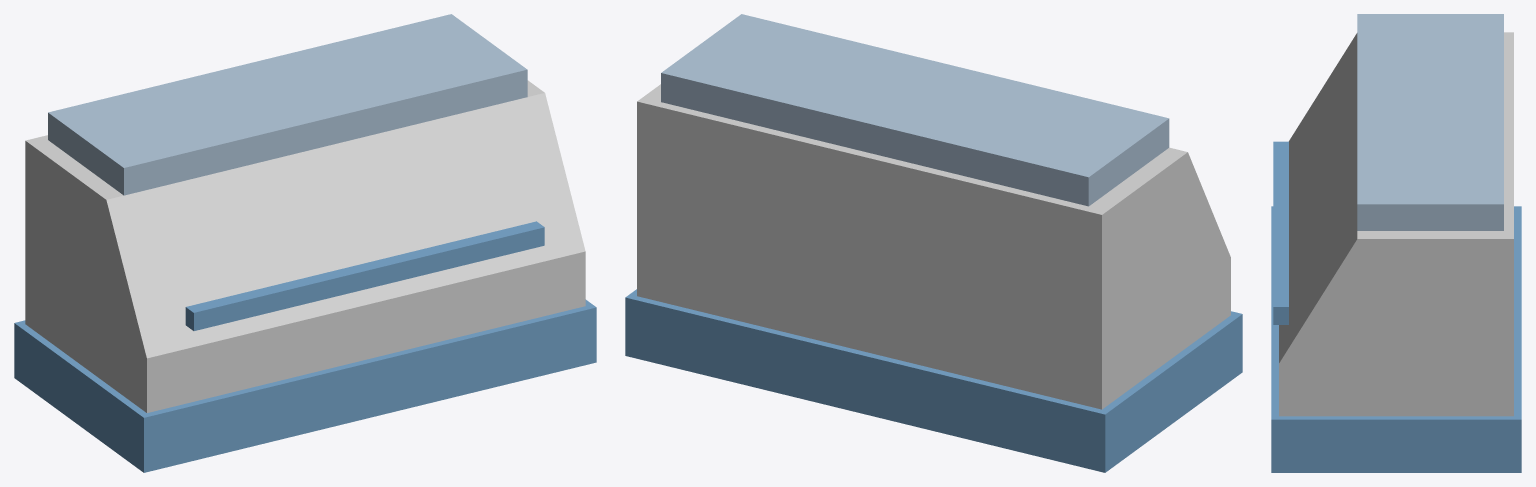
Rendered from barrierB.glb.
3 renders of one model, left to right at view 1: azimuth 30°, elevation 25°; view 2: azimuth 150°, elevation 25°; view 3: azimuth 270°, elevation 25°, orthographic. The views are drawn at different scales.
Parts seen in each view (by area): view 1: snowPeak-barrierB; view 2: snowPeak-barrierB; view 3: snowPeak-barrierB.
Part boxes in pixels (x1,y1,x2,y2): snowPeak-barrierB: [14, 14, 596, 472]; snowPeak-barrierB: [625, 14, 1242, 472]; snowPeak-barrierB: [1271, 14, 1521, 472].
Bounding box in the file's own units: 0.258 × 0.145 × 0.128.
